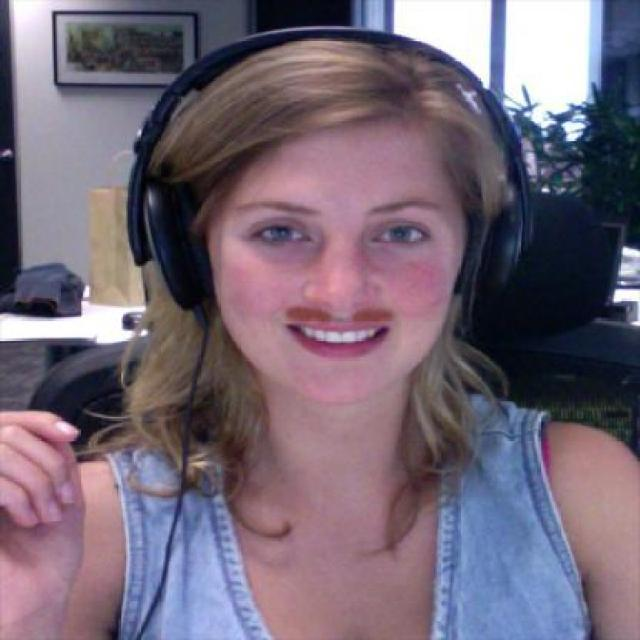earphone: (117, 8, 553, 308)
